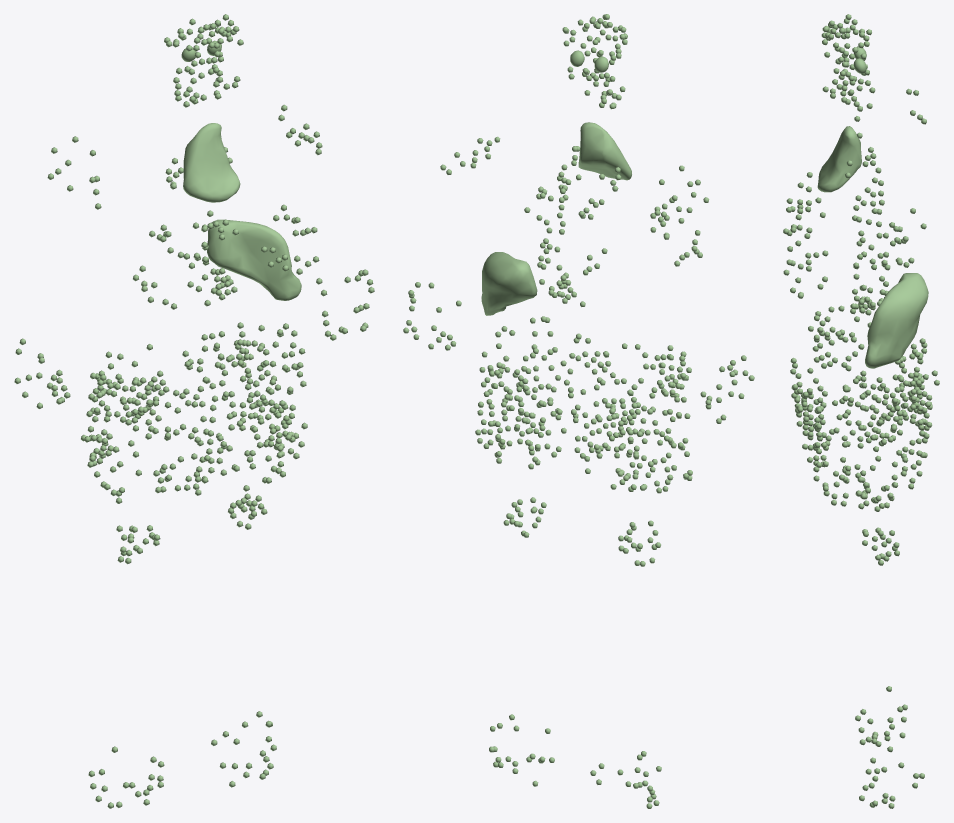
File: pediatric_child_5y_male.lymphatic.LOD1.glb
The picture shows the model from 3 angles, left to right: view 1: azimuth 30°, elevation 25°; view 2: azimuth 150°, elevation 25°; view 3: azimuth 270°, elevation 25°; orthographic projection. The views are drawn at different scales.
Parts seen in each view (by area): view 1: PEDIATRIC.CHILD_5Y.MALE.LYMPHATIC.LYMPHATIC_NODES_TRUNK, PEDIATRIC.CHILD_5Y.MALE.LYMPHATIC.SPLEEN, PEDIATRIC.CHILD_5Y.MALE.LYMPHATIC.THYMUS, PEDIATRIC.CHILD_5Y.MALE.LYMPHATIC.LYMPHATIC_NODES_ET, PEDIATRIC.CHILD_5Y.MALE.LYMPHATIC.LYMPHATIC_NODES_LEGS, PEDIATRIC.CHILD_5Y.MALE.LYMPHATIC.LYMPHATIC_NODES_THORACIC, PEDIATRIC.CHILD_5Y.MALE.LYMPHATIC.LYMPHATIC_NODES_ARMS, PEDIATRIC.CHILD_5Y.MALE.LYMPHATIC.LYMPHATIC_NODES_HEAD; view 2: PEDIATRIC.CHILD_5Y.MALE.LYMPHATIC.LYMPHATIC_NODES_TRUNK, PEDIATRIC.CHILD_5Y.MALE.LYMPHATIC.SPLEEN, PEDIATRIC.CHILD_5Y.MALE.LYMPHATIC.THYMUS, PEDIATRIC.CHILD_5Y.MALE.LYMPHATIC.LYMPHATIC_NODES_THORACIC, PEDIATRIC.CHILD_5Y.MALE.LYMPHATIC.LYMPHATIC_NODES_ET, PEDIATRIC.CHILD_5Y.MALE.LYMPHATIC.LYMPHATIC_NODES_ARMS, PEDIATRIC.CHILD_5Y.MALE.LYMPHATIC.LYMPHATIC_NODES_LEGS; view 3: PEDIATRIC.CHILD_5Y.MALE.LYMPHATIC.LYMPHATIC_NODES_TRUNK, PEDIATRIC.CHILD_5Y.MALE.LYMPHATIC.SPLEEN, PEDIATRIC.CHILD_5Y.MALE.LYMPHATIC.THYMUS, PEDIATRIC.CHILD_5Y.MALE.LYMPHATIC.LYMPHATIC_NODES_THORACIC, PEDIATRIC.CHILD_5Y.MALE.LYMPHATIC.LYMPHATIC_NODES_ET, PEDIATRIC.CHILD_5Y.MALE.LYMPHATIC.LYMPHATIC_NODES_LEGS, PEDIATRIC.CHILD_5Y.MALE.LYMPHATIC.LYMPHATIC_NODES_ARMS, PEDIATRIC.CHILD_5Y.MALE.LYMPHATIC.LYMPHATIC_NODES_HEAD.
Boxes of the visible parts, left/top/right/bottom form: PEDIATRIC.CHILD_5Y.MALE.LYMPHATIC.LYMPHATIC_NODES_TRUNK: left=47, top=104, right=322, bottom=564; PEDIATRIC.CHILD_5Y.MALE.LYMPHATIC.SPLEEN: left=207, top=219, right=301, bottom=300; PEDIATRIC.CHILD_5Y.MALE.LYMPHATIC.THYMUS: left=183, top=123, right=240, bottom=202; PEDIATRIC.CHILD_5Y.MALE.LYMPHATIC.LYMPHATIC_NODES_ET: left=164, top=14, right=243, bottom=87; PEDIATRIC.CHILD_5Y.MALE.LYMPHATIC.LYMPHATIC_NODES_LEGS: left=88, top=711, right=276, bottom=808; PEDIATRIC.CHILD_5Y.MALE.LYMPHATIC.LYMPHATIC_NODES_THORACIC: left=149, top=147, right=238, bottom=306; PEDIATRIC.CHILD_5Y.MALE.LYMPHATIC.LYMPHATIC_NODES_ARMS: left=14, top=269, right=374, bottom=408; PEDIATRIC.CHILD_5Y.MALE.LYMPHATIC.LYMPHATIC_NODES_HEAD: left=173, top=67, right=240, bottom=107; PEDIATRIC.CHILD_5Y.MALE.LYMPHATIC.LYMPHATIC_NODES_TRUNK: left=440, top=136, right=709, bottom=566; PEDIATRIC.CHILD_5Y.MALE.LYMPHATIC.SPLEEN: left=481, top=252, right=537, bottom=315; PEDIATRIC.CHILD_5Y.MALE.LYMPHATIC.THYMUS: left=578, top=122, right=631, bottom=180; PEDIATRIC.CHILD_5Y.MALE.LYMPHATIC.LYMPHATIC_NODES_THORACIC: left=537, top=146, right=621, bottom=307; PEDIATRIC.CHILD_5Y.MALE.LYMPHATIC.LYMPHATIC_NODES_ET: left=562, top=14, right=627, bottom=86; PEDIATRIC.CHILD_5Y.MALE.LYMPHATIC.LYMPHATIC_NODES_ARMS: left=403, top=282, right=754, bottom=423; PEDIATRIC.CHILD_5Y.MALE.LYMPHATIC.LYMPHATIC_NODES_LEGS: left=489, top=714, right=661, bottom=808; PEDIATRIC.CHILD_5Y.MALE.LYMPHATIC.LYMPHATIC_NODES_TRUNK: left=783, top=87, right=939, bottom=565; PEDIATRIC.CHILD_5Y.MALE.LYMPHATIC.SPLEEN: left=865, top=273, right=928, bottom=368; PEDIATRIC.CHILD_5Y.MALE.LYMPHATIC.THYMUS: left=817, top=126, right=861, bottom=192; PEDIATRIC.CHILD_5Y.MALE.LYMPHATIC.LYMPHATIC_NODES_THORACIC: left=845, top=147, right=914, bottom=313; PEDIATRIC.CHILD_5Y.MALE.LYMPHATIC.LYMPHATIC_NODES_ET: left=821, top=14, right=871, bottom=91; PEDIATRIC.CHILD_5Y.MALE.LYMPHATIC.LYMPHATIC_NODES_LEGS: left=855, top=686, right=924, bottom=808; PEDIATRIC.CHILD_5Y.MALE.LYMPHATIC.LYMPHATIC_NODES_ARMS: left=852, top=239, right=901, bottom=451; PEDIATRIC.CHILD_5Y.MALE.LYMPHATIC.LYMPHATIC_NODES_HEAD: left=822, top=64, right=870, bottom=104.
Size of the model in its own units: 0.3375 by 0.7266 by 0.1355.
